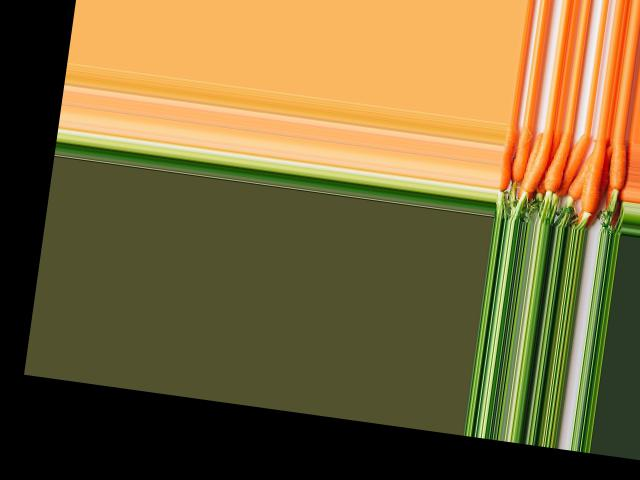carrot: (605, 136, 633, 200)
